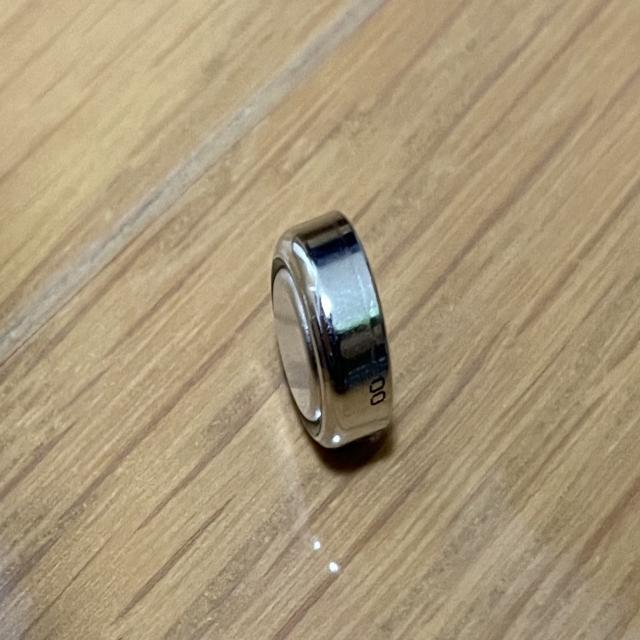COIN: (266, 208, 394, 461)
